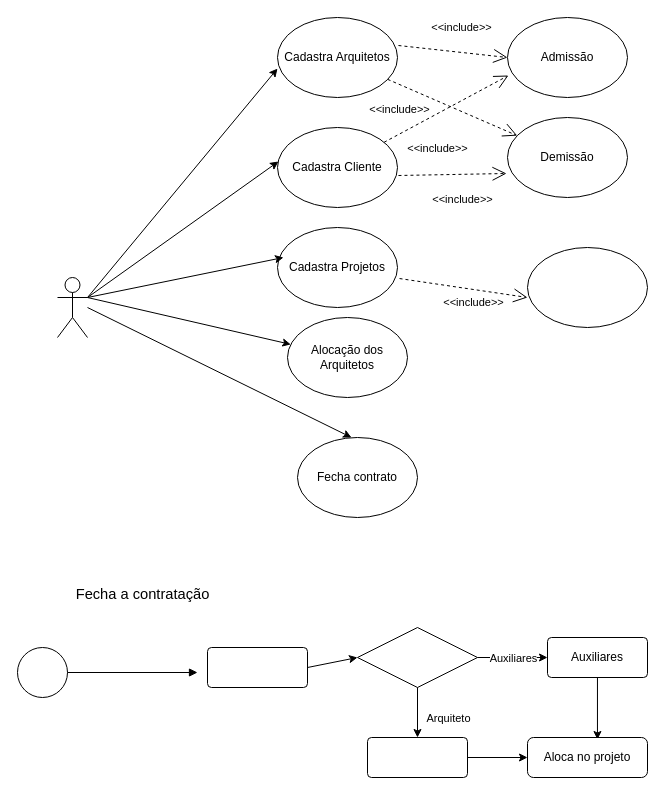
Image size: 665x795. Some labels were removed from this diagram. The shapes that lost their labels are listed below. From the top down, each one's box as (x1, y1, x2, y2) in pixels, then its label:
(56, 276, 88, 338): Empresa
(526, 246, 648, 328): Vincula Cliente ao projeto
(206, 646, 308, 688): Define o total de pessoas
(366, 736, 468, 778): Lider
